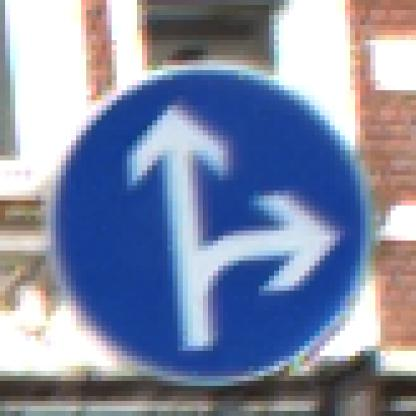Straight or Right: (42, 41, 377, 377)
